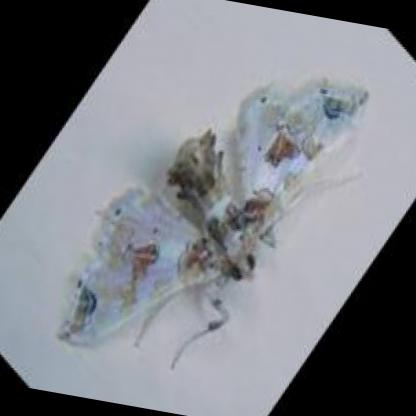leucinodes: (59, 84, 363, 343)
